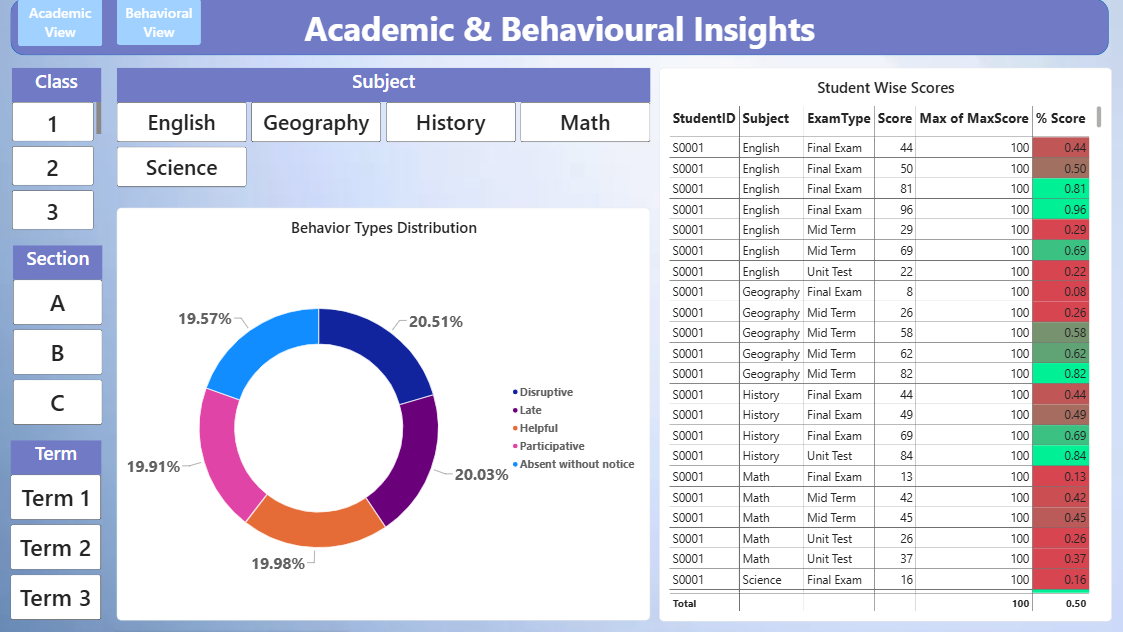

The page's visual inventory and layout, read from the dashboard file:
{"tool":"powerbi","page":{"name":"Academic & Behavioural Insights","canvas":[1920,1080],"ordinal":1},"visuals":[{"type":"donutChart","title":"Behavior Types Distribution","fields":{"Category":["Behavior.BehaviorType"],"Y":["Students - Students csv.Behavior Count per Type"]},"box":[202,356,908,702],"z":0},{"type":"shape","box":[21.7,0,1869.4,95.9],"z":1000},{"type":"advancedSlicerVisual","fields":{"Values":["Students - Students csv.Class"]},"box":[24,116,152,278],"z":2000},{"type":"advancedSlicerVisual","fields":{"Values":["Students - Students csv.Section"]},"box":[25.6,418.6,152,306],"z":3000},{"type":"advancedSlicerVisual","fields":{"Values":["Scores.Term"]},"box":[22,752,154,306],"z":4000},{"type":"tableEx","title":"Student Wise Scores","fields":{"Values":["Students - Students csv.StudentID","Scores.Subject","Scores.ExamType","Scores.Score","Max(Scores.MaxScore)","Students - Students csv.% Score"]},"box":[1126,116,770,942],"z":5000},{"type":"advancedSlicerVisual","fields":{"Values":["Scores.Subject"]},"box":[202,116,908,204],"z":6000},{"type":"actionButton","box":[202.2,0,143.5,78.3],"z":6001},{"type":"actionButton","box":[34.8,0,143.5,80.4],"z":6002}]}

Visuals, with their boxes in screenshot pixels (x1, y1, x2, y2), scaled from the page's 1920x1080 canvas onto the 1123x632 screenshot:
"Behavior Types Distribution" donutChart: 118 208 649 619
shape: 13 0 1106 56
advancedSlicerVisual - Students - Students csv.Class: 14 68 103 231
advancedSlicerVisual - Students - Students csv.Section: 15 245 104 424
advancedSlicerVisual - Scores.Term: 13 440 103 619
"Student Wise Scores" tableEx: 659 68 1109 619
advancedSlicerVisual - Scores.Subject: 118 68 649 187
actionButton: 118 0 202 46
actionButton: 20 0 104 47
